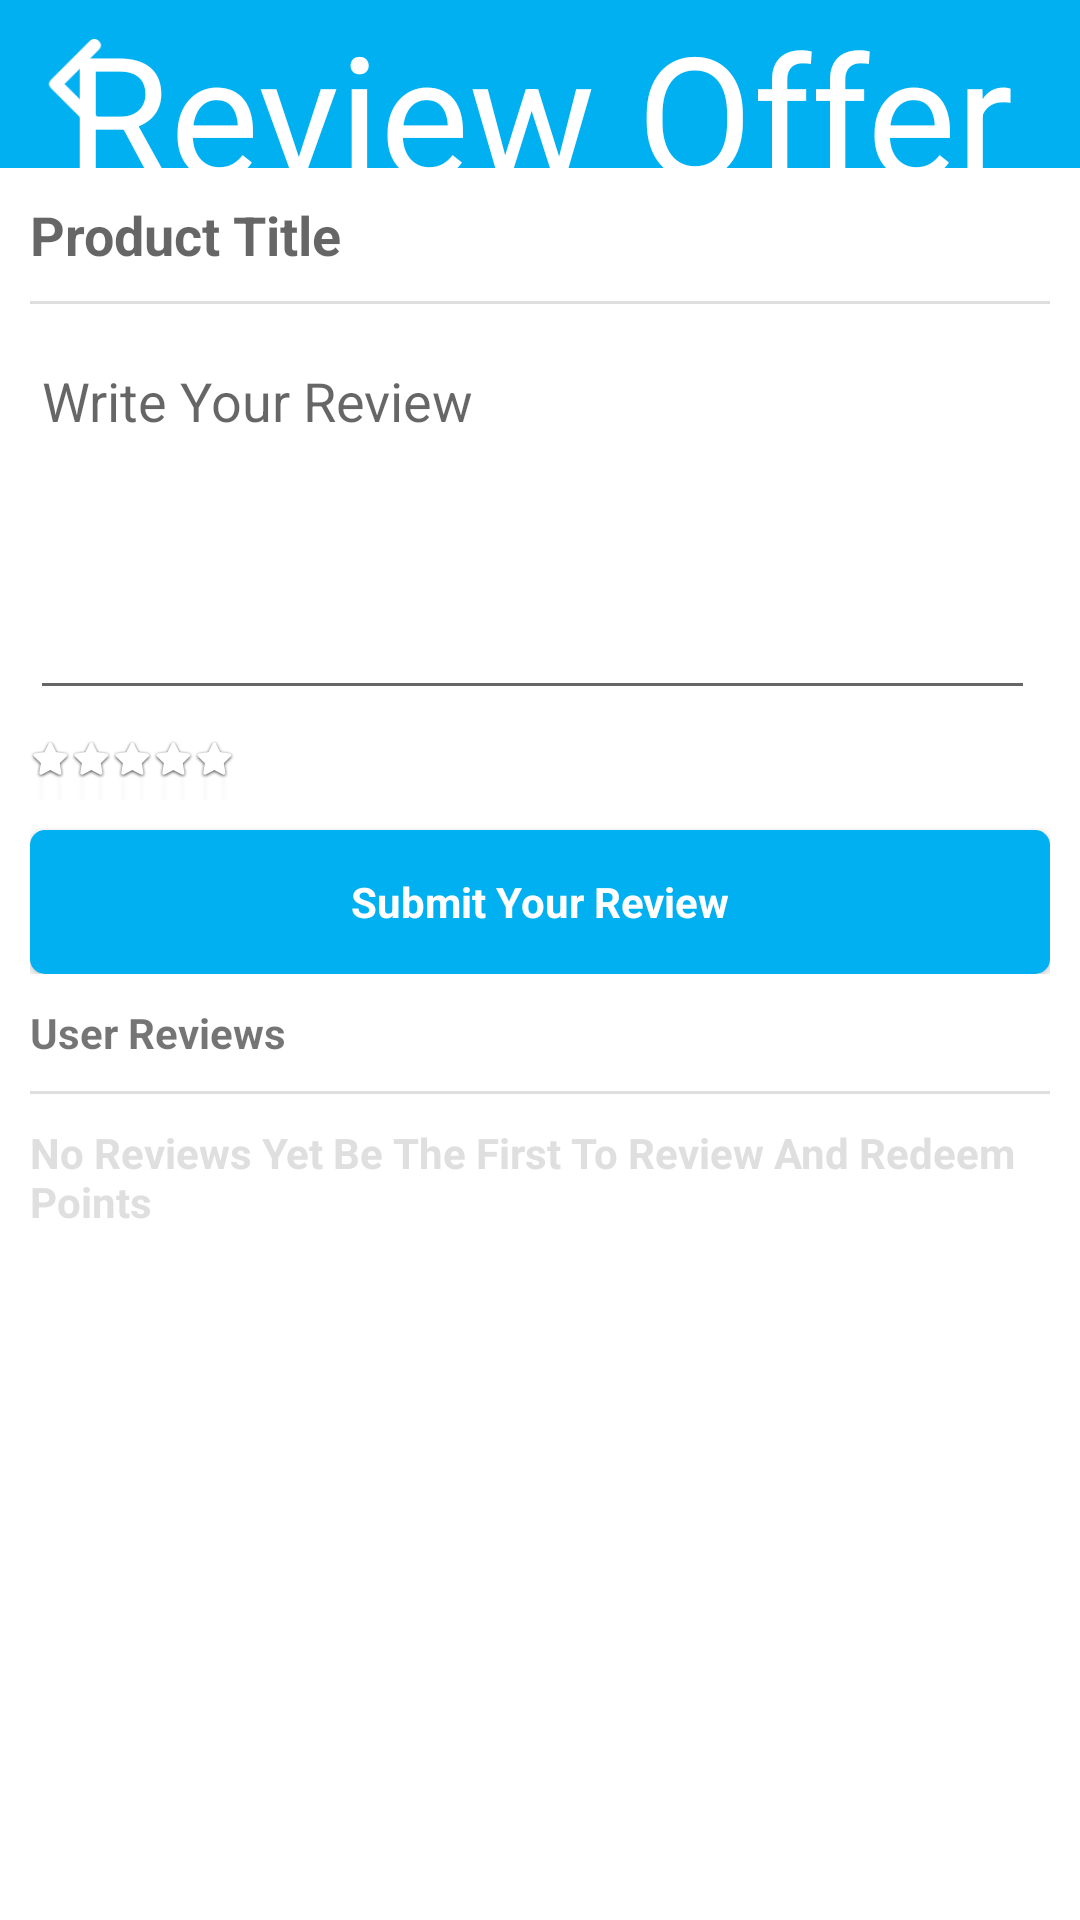

Locate icon controls on the screen. Image size 1080px x 1920px, boxes as [left=x1, top=y1, right=x2, bottom=y2].
back: [left=0, top=0, right=150, bottom=168]
